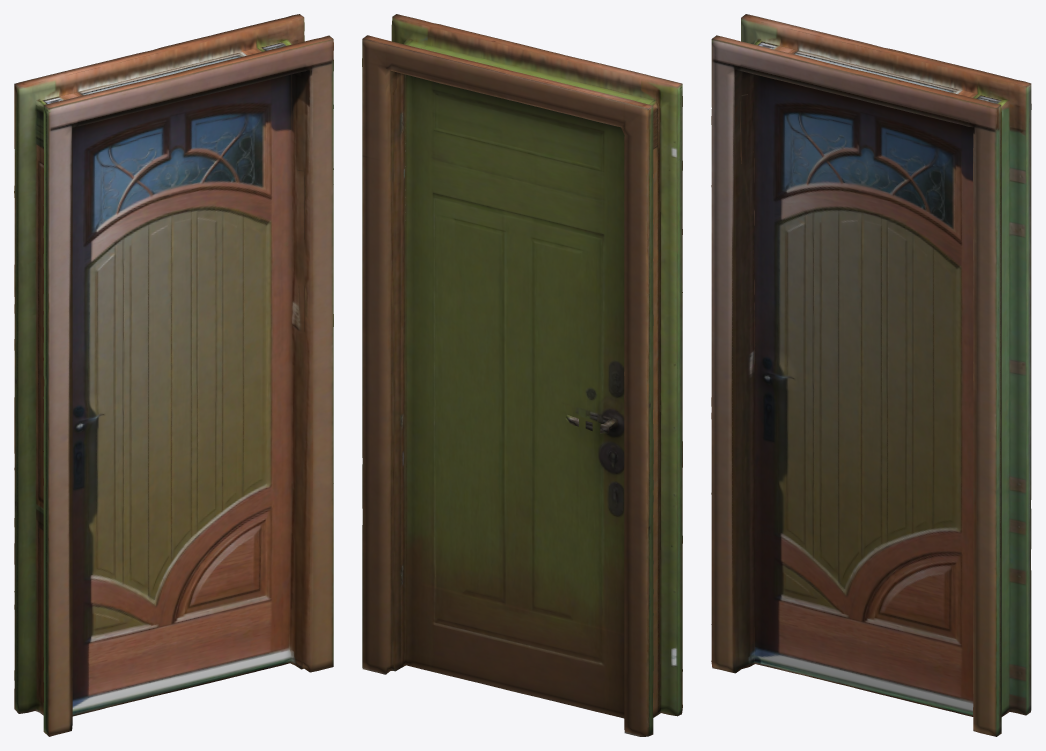
The model's file is Puerta.fbx.
The picture shows the model from 3 angles, left to right: view 1: azimuth 30°, elevation 25°; view 2: azimuth 150°, elevation 25°; view 3: azimuth 330°, elevation 25°; orthographic projection.
Visible parts, largest first — view 1: Mesh_0; view 2: Mesh_0; view 3: Mesh_0.
Part boxes in pixels (<box>): Mesh_0: <box>14,14,333,736</box>; Mesh_0: <box>362,14,682,736</box>; Mesh_0: <box>711,14,1031,736</box>.
Size of the model in its own units: 95.23 by 200 by 20.11.
Materials: 1 (1 with a texture image).
